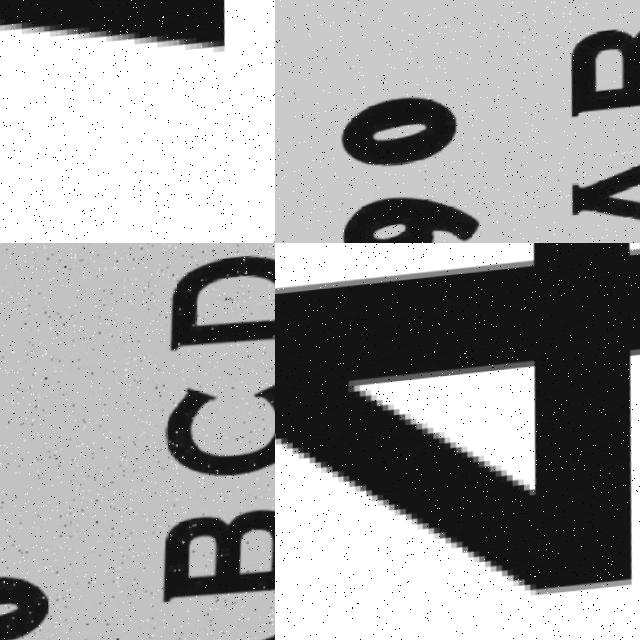0: (316, 88, 480, 180), (0, 565, 72, 640)
9: (330, 183, 501, 243)
L: (0, 0, 255, 122)
